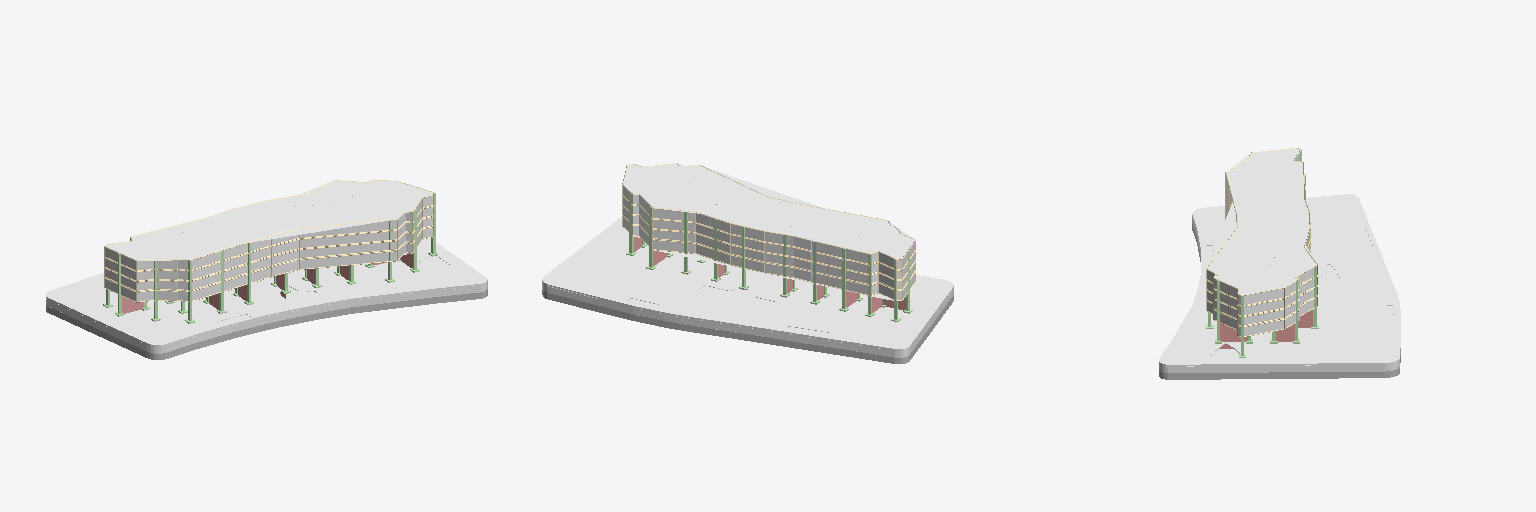
The model's file is xitongpiantou_new.obj.
The picture shows the model from 3 angles: view 1: azimuth 30°, elevation 25°; view 2: azimuth 150°, elevation 25°; view 3: azimuth 270°, elevation 25°; orthographic projection.
Parts seen in each view (by area): view 1: Extrude_3, top_2_4, Extrude_1, Extrude, push_1_6, push_1_8, push_1_7, push_1, push_1_5, push_1_2, push_1_3, push_1_4; view 2: Extrude_3, top_2_4, Extrude_1, Extrude, push_1, push_1_6, push_1_8, push_1_7, push_1_5, push_1_2, push_1_3, push_1_4; view 3: Extrude_3, top_2_4, Extrude_1, Extrude, push_1, push_1_6, push_1_8, push_1_7, push_1_5.
Boxes of the visible parts, x1=… form: Extrude_3: x1=46, y1=238, x2=487, y2=346; top_2_4: x1=106, y1=180, x2=432, y2=260; Extrude_1: x1=46, y1=256, x2=487, y2=353; Extrude: x1=46, y1=289, x2=487, y2=359; push_1_6: x1=105, y1=228, x2=432, y2=301; push_1_8: x1=105, y1=207, x2=432, y2=280; push_1_7: x1=105, y1=217, x2=432, y2=291; push_1: x1=105, y1=196, x2=432, y2=270; push_1_5: x1=104, y1=180, x2=434, y2=271; push_1_2: x1=104, y1=225, x2=433, y2=302; push_1_3: x1=104, y1=215, x2=433, y2=292; push_1_4: x1=104, y1=205, x2=433, y2=282; Extrude_3: x1=542, y1=217, x2=953, y2=350; top_2_4: x1=623, y1=164, x2=914, y2=258; Extrude_1: x1=542, y1=282, x2=953, y2=357; Extrude: x1=542, y1=288, x2=953, y2=363; push_1: x1=623, y1=186, x2=914, y2=268; push_1_6: x1=623, y1=218, x2=914, y2=299; push_1_8: x1=623, y1=197, x2=914, y2=278; push_1_7: x1=623, y1=207, x2=914, y2=290; push_1_5: x1=622, y1=163, x2=915, y2=270; push_1_2: x1=622, y1=215, x2=915, y2=300; push_1_3: x1=622, y1=205, x2=915, y2=290; push_1_4: x1=622, y1=195, x2=915, y2=280; Extrude_3: x1=1159, y1=194, x2=1400, y2=366; top_2_4: x1=1207, y1=148, x2=1316, y2=294; Extrude_1: x1=1159, y1=217, x2=1400, y2=372; Extrude: x1=1159, y1=224, x2=1400, y2=379; push_1: x1=1207, y1=153, x2=1313, y2=304; push_1_6: x1=1207, y1=209, x2=1313, y2=335; push_1_8: x1=1207, y1=189, x2=1313, y2=314; push_1_7: x1=1207, y1=199, x2=1313, y2=325; push_1_5: x1=1206, y1=148, x2=1317, y2=306.
Size of the model in its own units: 388 by 81.84 by 233.